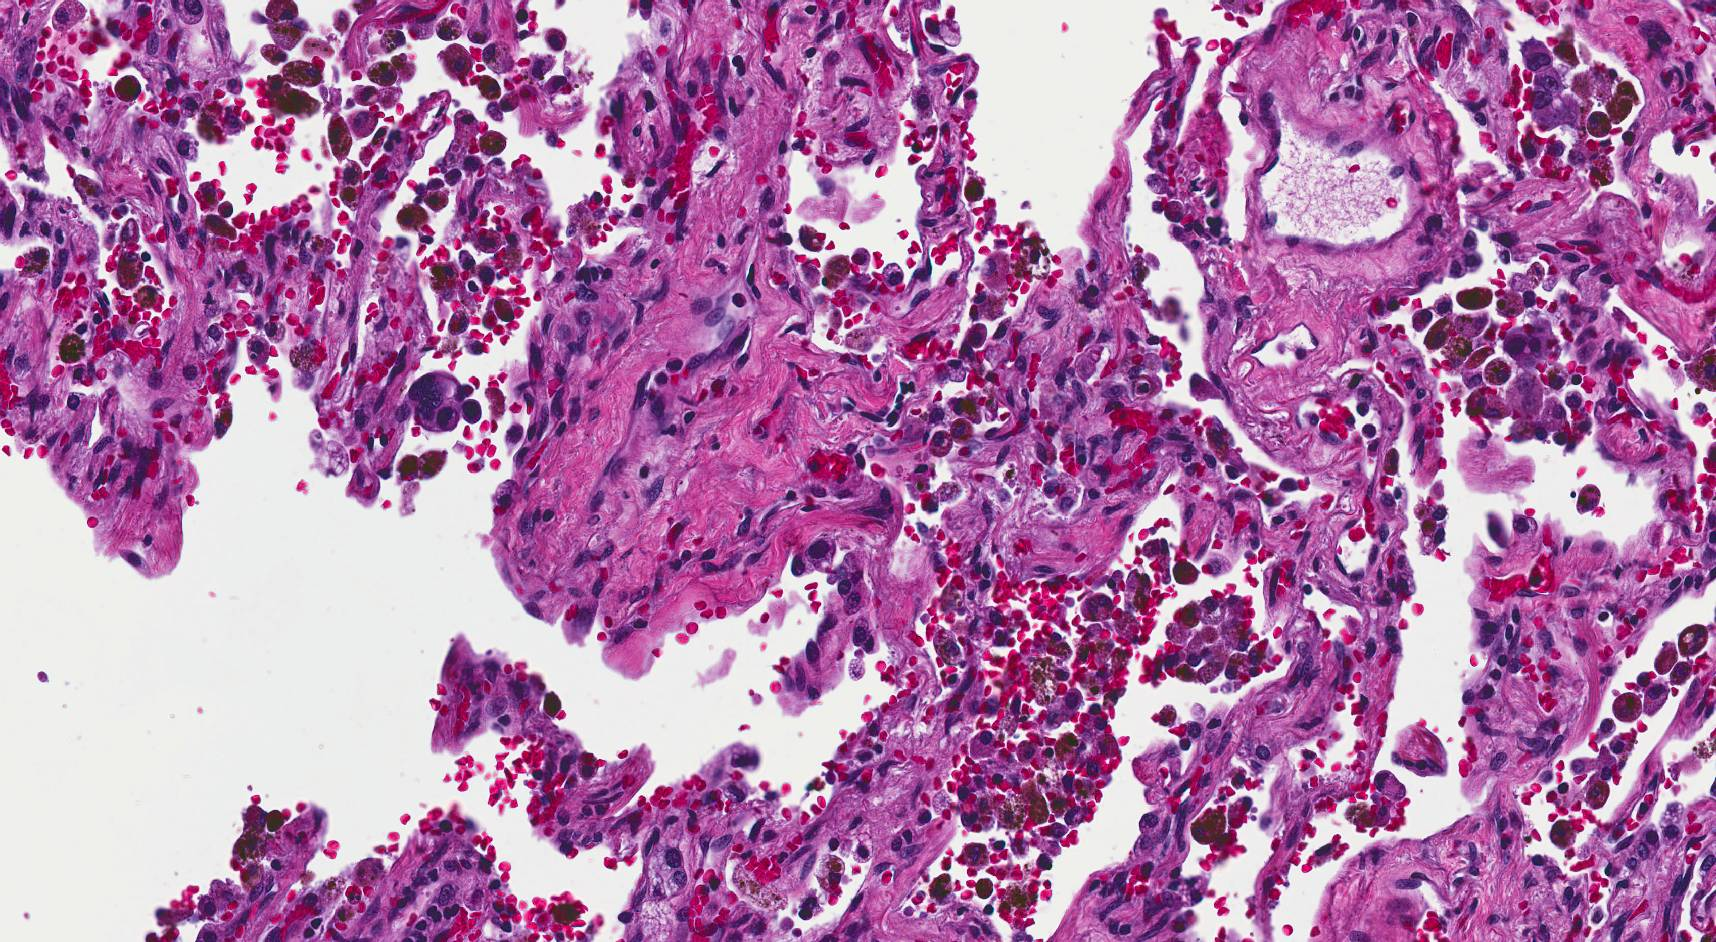stas: (1523, 43, 1582, 131), (409, 372, 464, 432)
